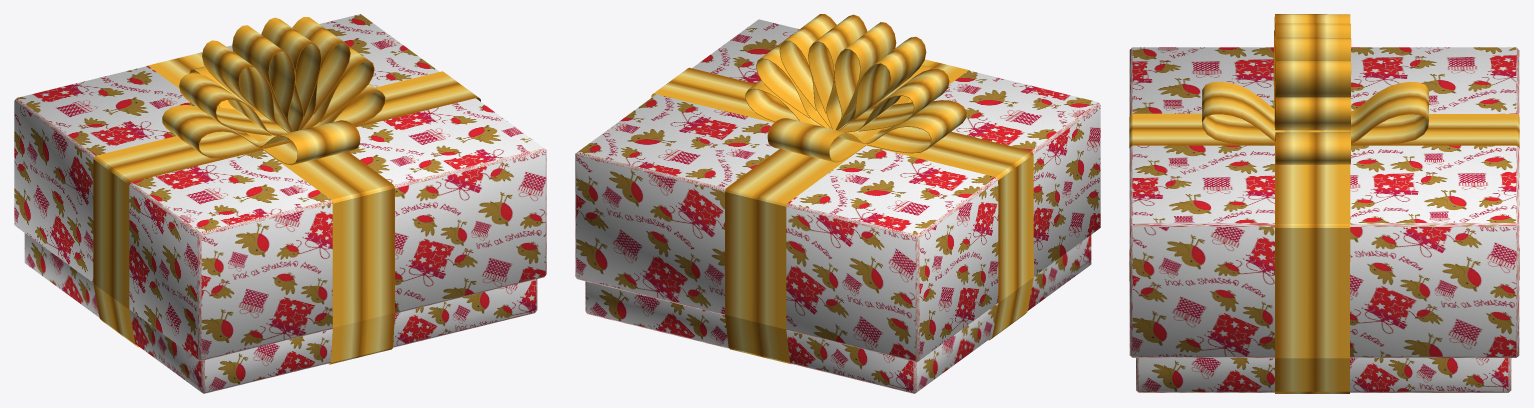
The model's file is regalo1.obj.
3 renders of one model, left to right at view 1: azimuth 30°, elevation 25°; view 2: azimuth 150°, elevation 25°; view 3: azimuth 270°, elevation 25°, orthographic. The views are drawn at different scales.
Visible parts, largest first — view 1: Box04.002, Plane06.002, Box03.002, Plane04.002, Plane09.002, Plane10.002, Plane11.002, Plane08.002, Plane07.002; view 2: Box04.002, Plane06.002, Box03.002, Plane04.002, Plane09.002, Plane10.002, Plane11.002, Plane08.002, Plane07.002; view 3: Box04.002, Plane04.002, Box03.002, Plane07.002, Plane06.002, Plane10.002, Plane09.002, Plane11.002, Plane08.002.
Part boxes in pixels (x1,y1,x2,y2): Box04.002: (14, 14, 546, 361); Plane06.002: (147, 52, 394, 364); Box03.002: (24, 233, 537, 393); Plane04.002: (93, 71, 480, 347); Plane09.002: (232, 17, 321, 132); Plane10.002: (202, 17, 350, 132); Plane11.002: (179, 46, 374, 135); Plane08.002: (162, 83, 385, 158); Plane07.002: (189, 66, 360, 165); Box04.002: (575, 19, 1100, 361); Plane06.002: (725, 59, 969, 364); Box03.002: (585, 235, 1091, 393); Plane04.002: (651, 67, 1033, 340); Plane09.002: (808, 14, 896, 130); Plane10.002: (779, 14, 926, 130); Plane11.002: (756, 34, 949, 132); Plane08.002: (745, 80, 966, 153); Plane07.002: (767, 65, 934, 162); Box04.002: (1129, 47, 1519, 357); Plane04.002: (1275, 153, 1350, 393); Box03.002: (1136, 358, 1511, 392); Plane07.002: (1202, 81, 1428, 145); Plane06.002: (1129, 113, 1519, 280); Plane10.002: (1274, 14, 1351, 124); Plane09.002: (1274, 23, 1351, 125); Plane11.002: (1274, 30, 1351, 130); Plane08.002: (1273, 53, 1350, 164).
Bounding box in the file's own units: 1.08 × 0.7701 × 0.9961.
2 materials, 2 textured.
